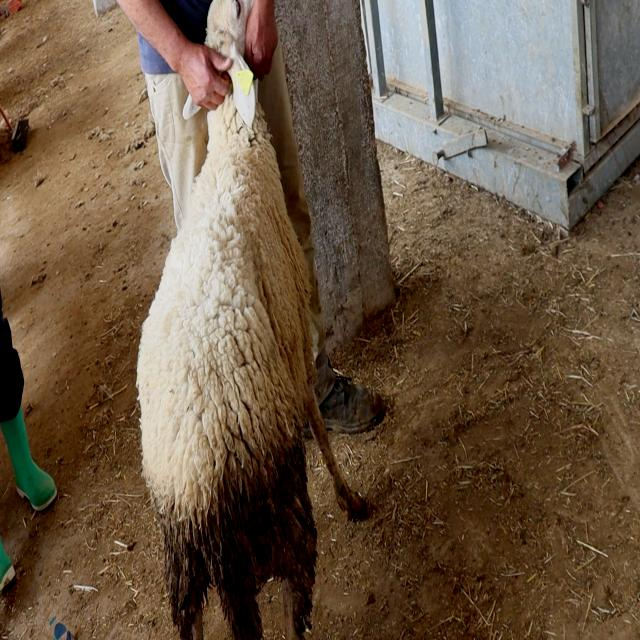Score_3: (136, 0, 364, 639)
